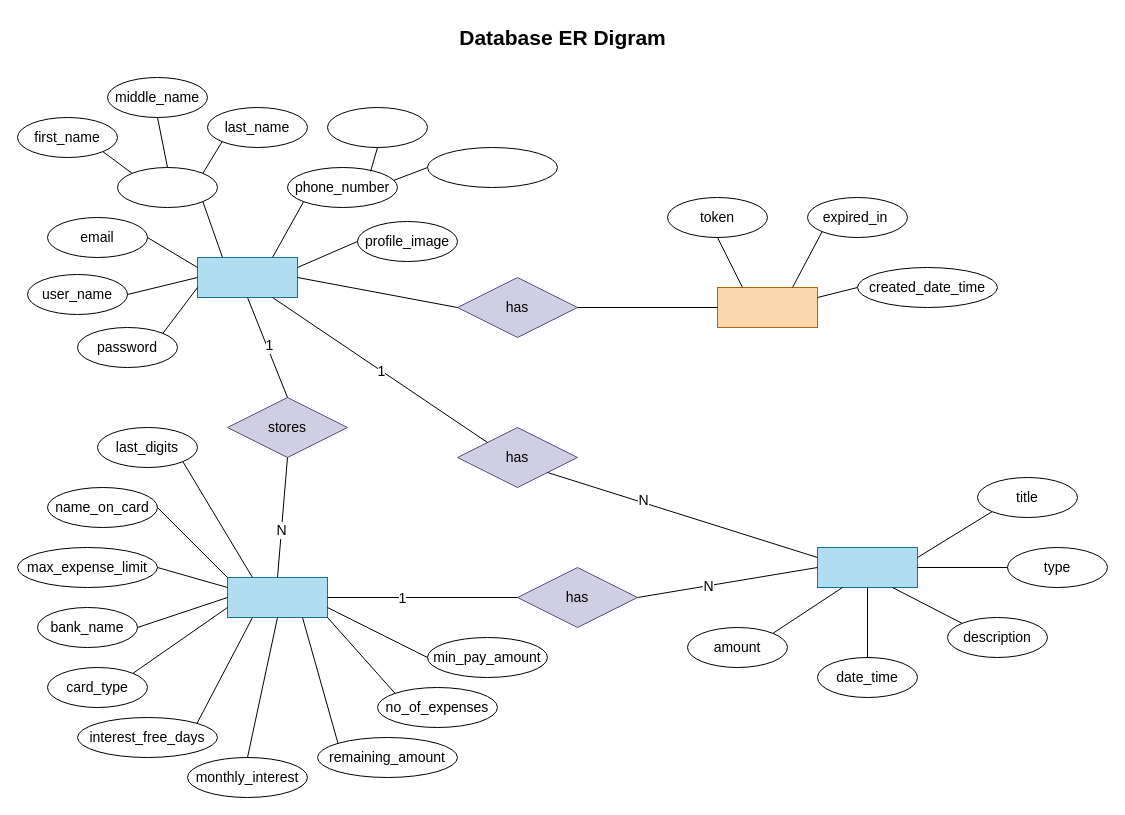
Image size: 1125x815. Some labels were removed from this diagram. The shapes that lost their labels are listed below. From the top down, each one's centre as x and y in pixels, then its label:
At point (377, 127): "primary_phno".
At point (167, 187): "name".
At point (492, 167): "secondary_phno".
At point (247, 277): "User".
At point (767, 307): "Auth".
At point (867, 567): "Expense".
At point (277, 597): "CreditCard".
